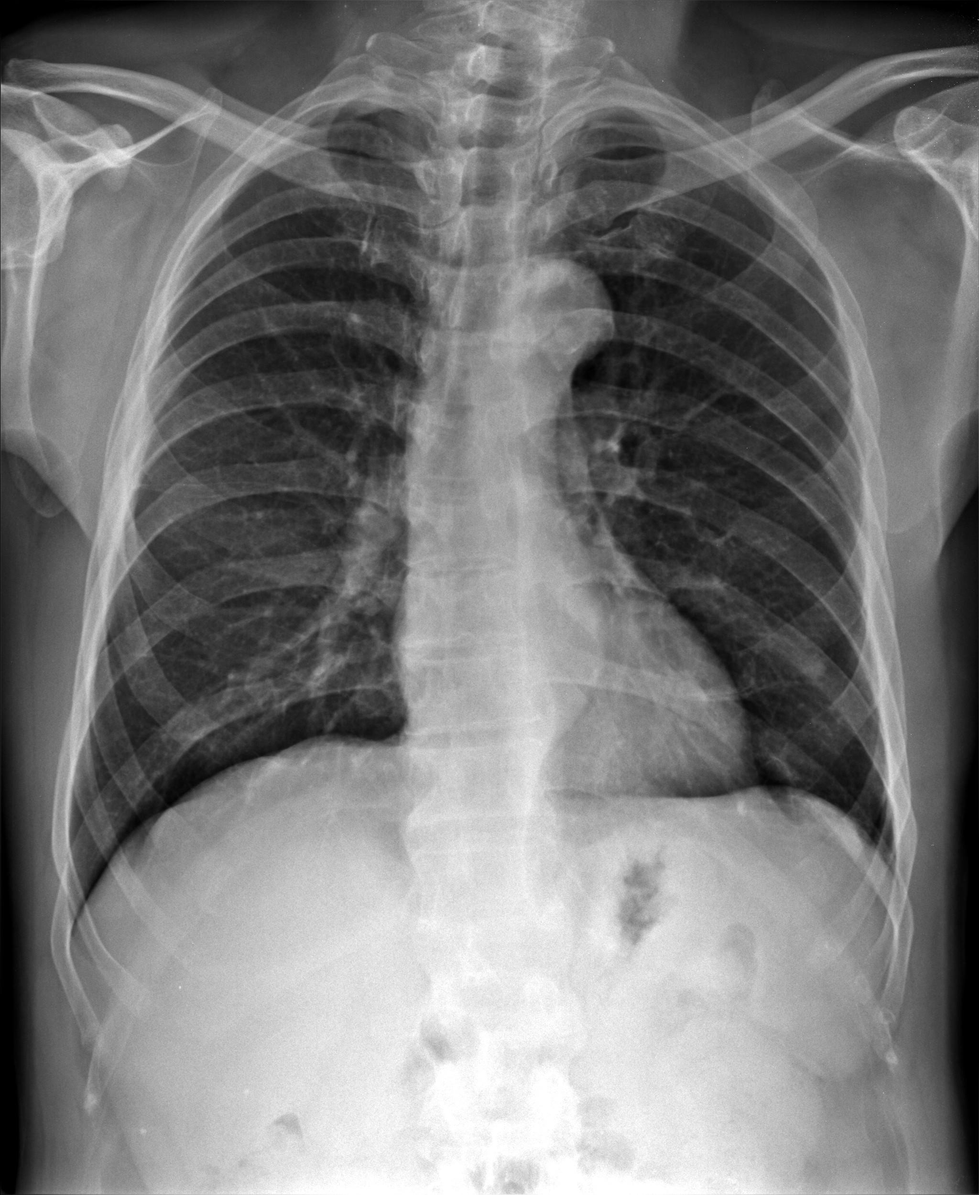Aortic enlargement: (488, 257, 620, 372)
Pleural thickening: (552, 98, 676, 128), (309, 95, 409, 117)
